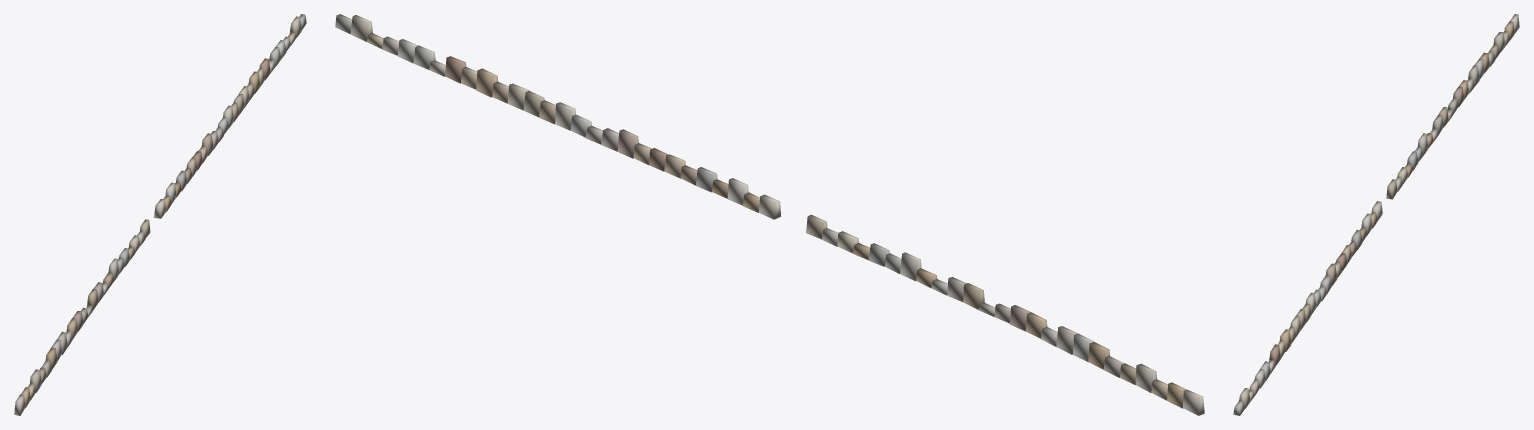
The model's file is farm_-9_6_far.glb.
3 views of the same model, side by side, from view 1: azimuth 90°, elevation 25°; view 2: azimuth 150°, elevation 25°; view 3: azimuth 270°, elevation 25° (orthographic). The views are drawn at different scales.
Visible parts, largest first — view 1: geometry_0; view 2: geometry_0; view 3: geometry_0.
Part boxes in pixels (box(x1,y1,x2,y2)): geometry_0: box(14, 14, 306, 415); geometry_0: box(335, 14, 1204, 415); geometry_0: box(1233, 14, 1519, 415).
Size of the model in its own units: 83.54 by 2.33 by 26.12.
